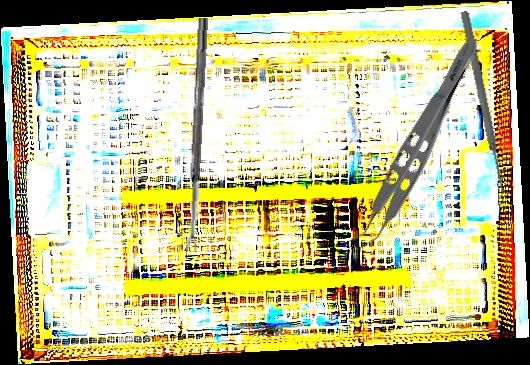Pusher: (458, 10, 509, 196)
Surgical Spoon: (184, 17, 209, 252)
Tissue Forceps: (344, 26, 486, 258)
